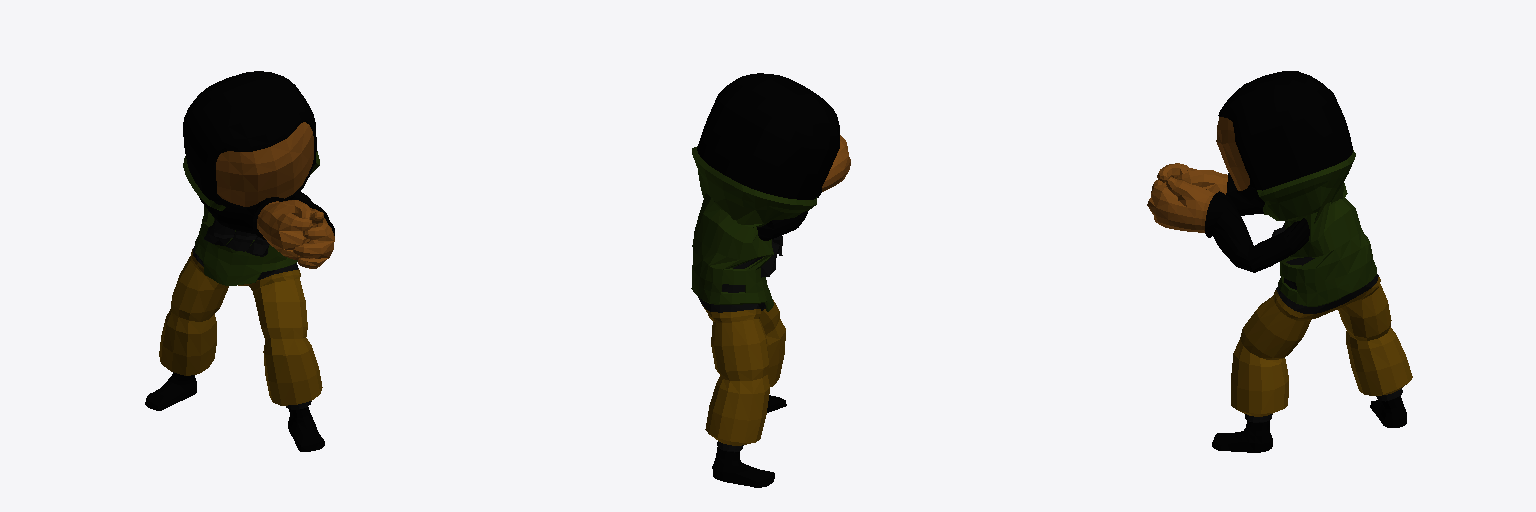
Rendered from Player_Pistol_Aim.obj.
3 renders of one model, left to right at view 1: azimuth 30°, elevation 25°; view 2: azimuth 150°, elevation 25°; view 3: azimuth 270°, elevation 25°, orthographic.
Visible parts, largest first — view 1: Body; view 2: Body; view 3: Body.
Boxes of the visible parts, x1=… form: Body: x1=145, y1=71, x2=334, y2=451; Body: x1=691, y1=73, x2=850, y2=487; Body: x1=1147, y1=71, x2=1412, y2=452.
Bounding box in the file's own units: 0.7835 × 2.12 × 1.44.